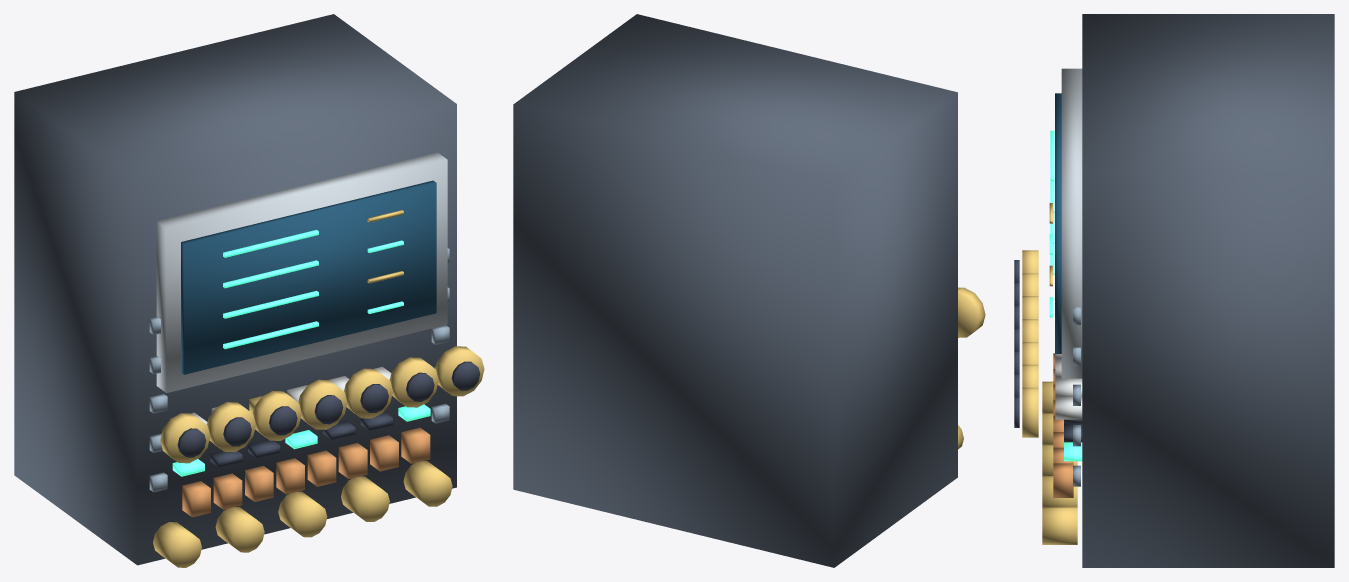
File: 73_L86_ContactForceSignalConditioner.glb
3 views of the same model, side by side, from view 1: azimuth 30°, elevation 25°; view 2: azimuth 150°, elevation 25°; view 3: azimuth 270°, elevation 25° (orthographic). The views are drawn at different scales.
Visible parts, largest first — view 1: L86_ContactForceSignalConditi_Part_0000, L86_ContactForceSignalConditi_Part_0002, L86_ContactForceSignalConditi_Part_0001, L86_ContactForceSignalConditi_Part_0004, L86_ContactForceSignalConditi_Part_0008, L86_ContactForceSignalConditi_Part_0003, L86_ContactForceSignalConditi_Part_0007, L86_ContactForceSignalConditi_Part_0006, L86_ContactForceSignalConditi_Part_0009, L86_ContactForceSignalConditi_Part_0021, L86_ContactForceSignalConditi_Part_0019, L86_ContactForceSignalConditi_Part_0011 (+10 smaller); view 2: L86_ContactForceSignalConditi_Part_0000, L86_ContactForceSignalConditi_Part_0009; view 3: L86_ContactForceSignalConditi_Part_0000, L86_ContactForceSignalConditi_Part_0001, L86_ContactForceSignalConditi_Part_0004, L86_ContactForceSignalConditi_Part_0002, L86_ContactForceSignalConditi_Part_0008, L86_ContactForceSignalConditi_Part_0005, L86_ContactForceSignalConditi_Part_0003, L86_ContactForceSignalConditi_Part_0021, L86_ContactForceSignalConditi_Part_0007, L86_ContactForceSignalConditi_Part_0009, L86_ContactForceSignalConditi_Part_0019.
Part boxes in pixels (bbox=[...]): L86_ContactForceSignalConditi_Part_0000: bbox=[14, 14, 456, 565]; L86_ContactForceSignalConditi_Part_0002: bbox=[181, 180, 436, 374]; L86_ContactForceSignalConditi_Part_0001: bbox=[156, 152, 447, 392]; L86_ContactForceSignalConditi_Part_0004: bbox=[153, 210, 452, 567]; L86_ContactForceSignalConditi_Part_0008: bbox=[182, 427, 430, 517]; L86_ContactForceSignalConditi_Part_0003: bbox=[172, 230, 430, 476]; L86_ContactForceSignalConditi_Part_0007: bbox=[149, 248, 449, 492]; L86_ContactForceSignalConditi_Part_0006: bbox=[210, 412, 392, 467]; L86_ContactForceSignalConditi_Part_0009: bbox=[160, 413, 210, 463]; L86_ContactForceSignalConditi_Part_0021: bbox=[435, 346, 484, 396]; L86_ContactForceSignalConditi_Part_0019: bbox=[389, 357, 438, 407]; L86_ContactForceSignalConditi_Part_0011: bbox=[207, 402, 255, 452]; L86_ContactForceSignalConditi_Part_0000: bbox=[513, 14, 957, 567]; L86_ContactForceSignalConditi_Part_0009: bbox=[958, 287, 985, 337]; L86_ContactForceSignalConditi_Part_0000: bbox=[1082, 14, 1334, 567]; L86_ContactForceSignalConditi_Part_0001: bbox=[1061, 68, 1082, 378]; L86_ContactForceSignalConditi_Part_0004: bbox=[1042, 203, 1077, 544]; L86_ContactForceSignalConditi_Part_0002: bbox=[1055, 93, 1061, 353]; L86_ContactForceSignalConditi_Part_0008: bbox=[1053, 353, 1073, 497]; L86_ContactForceSignalConditi_Part_0005: bbox=[1055, 354, 1082, 419]; L86_ContactForceSignalConditi_Part_0003: bbox=[1049, 130, 1082, 461]; L86_ContactForceSignalConditi_Part_0021: bbox=[1022, 387, 1038, 437]; L86_ContactForceSignalConditi_Part_0007: bbox=[1073, 307, 1080, 486]; L86_ContactForceSignalConditi_Part_0009: bbox=[1022, 250, 1038, 273]; L86_ContactForceSignalConditi_Part_0019: bbox=[1022, 364, 1038, 387].
Bounding box in the file's own units: 0.9792 × 1.12 × 0.8284.
